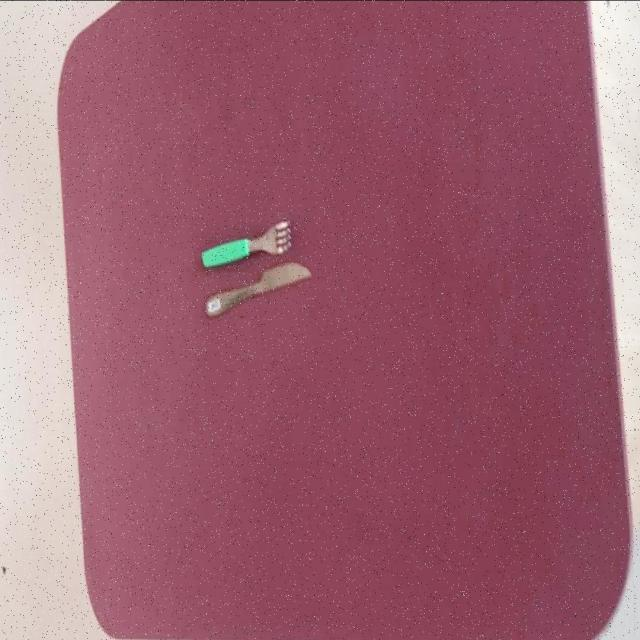Fork: (200, 221, 292, 268)
Knife: (205, 262, 311, 320)
